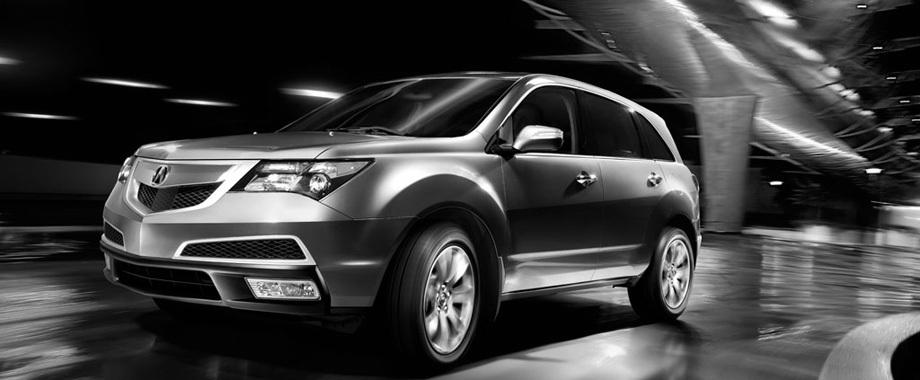car: (99, 71, 702, 379)
